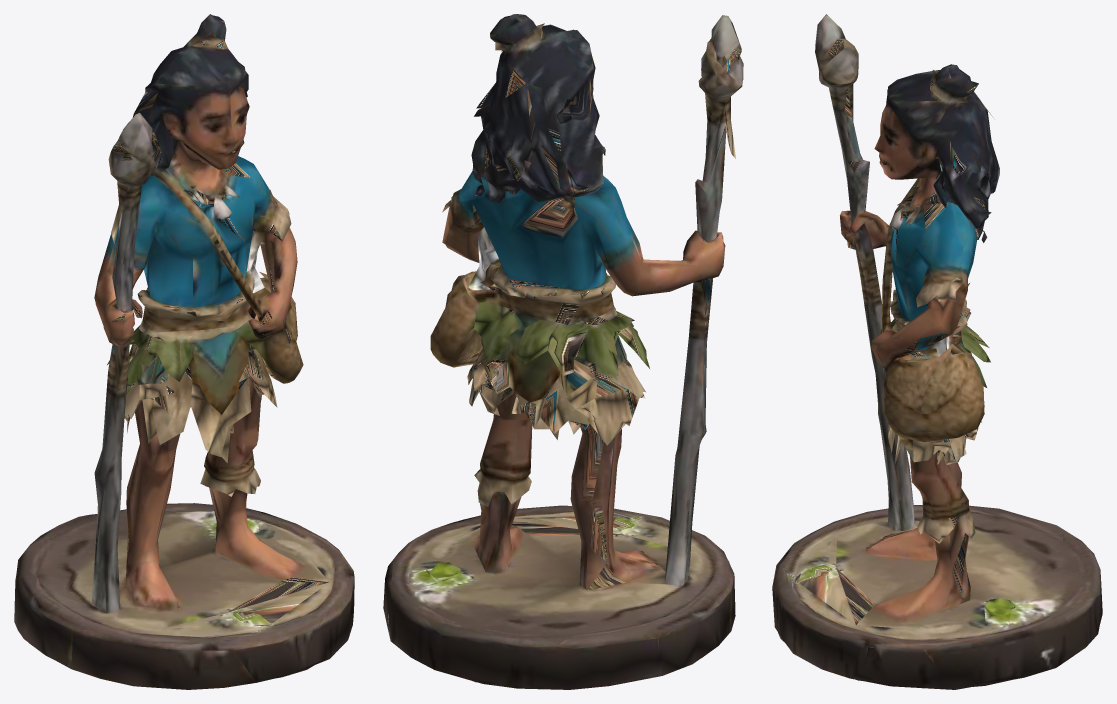
File: sw-friday-lite.glb
3 renders of one model, left to right at view 1: azimuth 30°, elevation 25°; view 2: azimuth 150°, elevation 25°; view 3: azimuth 270°, elevation 25°, orthographic. The views are drawn at different scales.
Visible parts, largest first — view 1: geometry_0; view 2: geometry_0; view 3: geometry_0.
Part boxes in pixels (bbox=[...]): geometry_0: bbox=[14, 14, 354, 689]; geometry_0: bbox=[383, 14, 743, 689]; geometry_0: bbox=[772, 14, 1102, 689].
Size of the model in its own units: 0.4395 by 0.8445 by 0.4412.
Materials: 1 (1 with a texture image).
